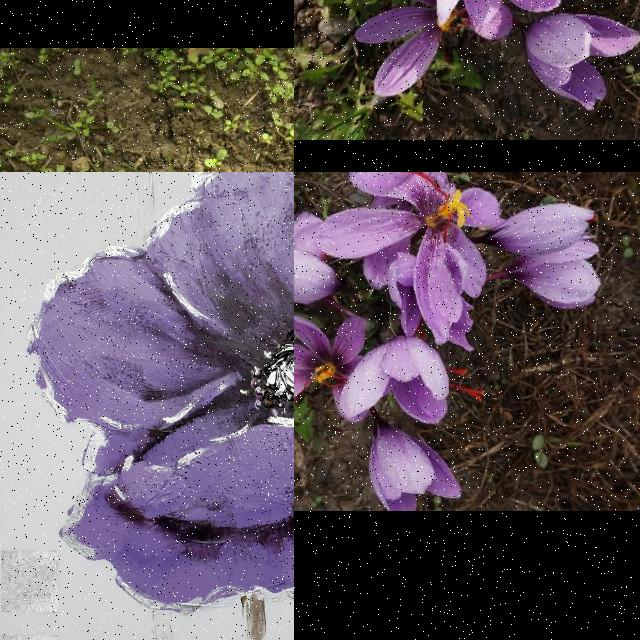flower: (336, 336, 486, 426), (524, 14, 640, 112), (368, 426, 462, 512), (510, 232, 602, 310), (485, 203, 601, 257), (437, 0, 591, 26)
overlap: (294, 172, 505, 424), (294, 0, 558, 96)
